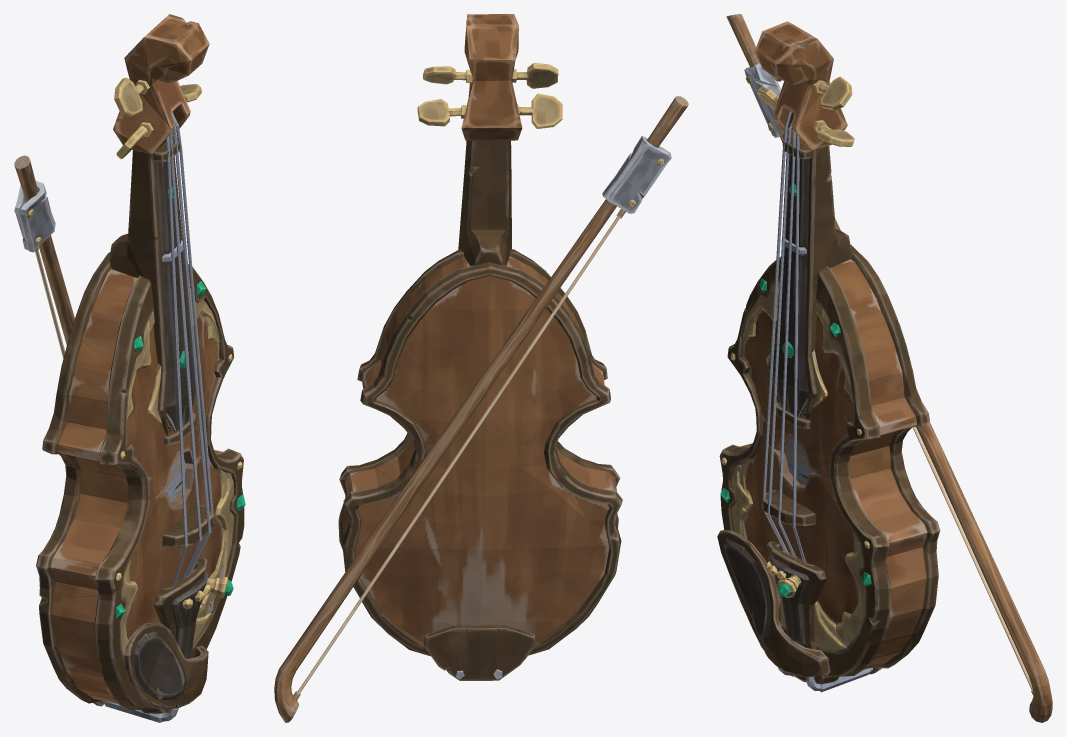
File: violinc.glb
3 views of the same model, side by side, from view 1: azimuth 30°, elevation 25°; view 2: azimuth 150°, elevation 25°; view 3: azimuth 270°, elevation 25° (orthographic). The views are drawn at different scales.
Parts seen in each view (by area): view 1: entity_2; view 2: entity_2; view 3: entity_2.
Part boxes in pixels (x1,y1,x2,y2): entity_2: (14, 14, 245, 722); entity_2: (274, 14, 688, 722); entity_2: (717, 14, 1052, 722).
Bounding box in the file's own units: 0.2649 × 0.5767 × 0.2704.
Materials: 2 (2 with a texture image).
